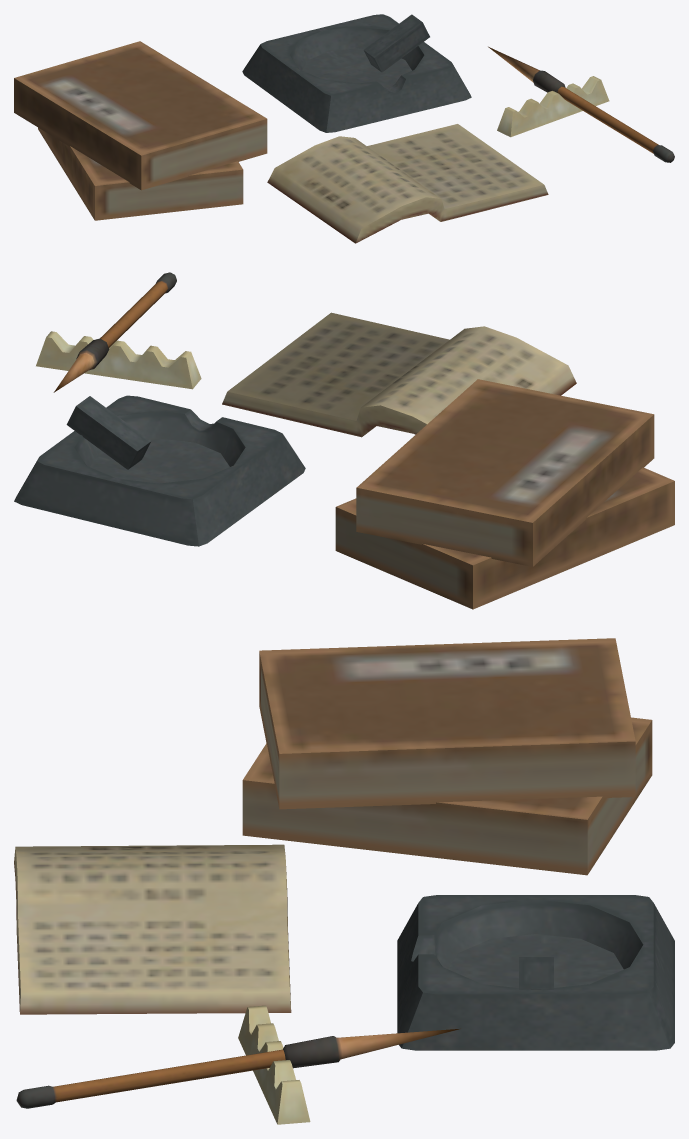
Rendered from Homeworld_Interior_Ly_Thing_Stationery_02_Vo.fbx.
3 views of the same model, one above another, from view 1: azimuth 30°, elevation 25°; view 2: azimuth 150°, elevation 25°; view 3: azimuth 270°, elevation 25° (orthographic). The views are drawn at different scales.
Visible parts, largest first — view 1: Homeworld_Interior_Ly_Thing_Stationery_02_Vo; view 2: Homeworld_Interior_Ly_Thing_Stationery_02_Vo; view 3: Homeworld_Interior_Ly_Thing_Stationery_02_Vo.
Boxes of the visible parts, left/top/right/bottom form: Homeworld_Interior_Ly_Thing_Stationery_02_Vo: left=14, top=14, right=674, bottom=243; Homeworld_Interior_Ly_Thing_Stationery_02_Vo: left=14, top=272, right=674, bottom=609; Homeworld_Interior_Ly_Thing_Stationery_02_Vo: left=14, top=638, right=674, bottom=1124.
Bounding box in the file's own units: 1.06 × 0.1373 × 0.7518.
